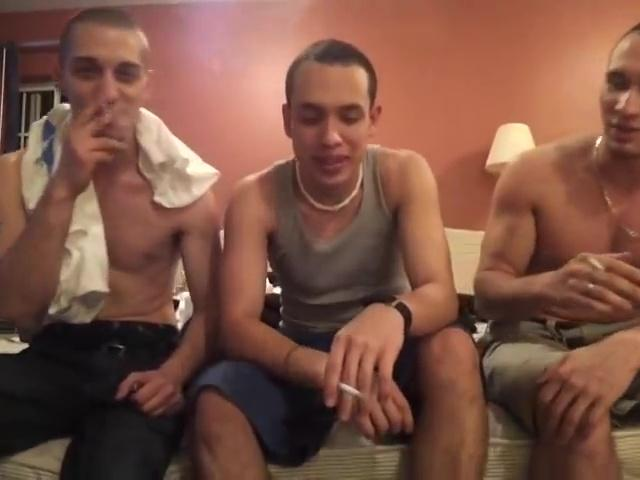cigarette: (580, 250, 613, 274), (340, 381, 366, 400)
